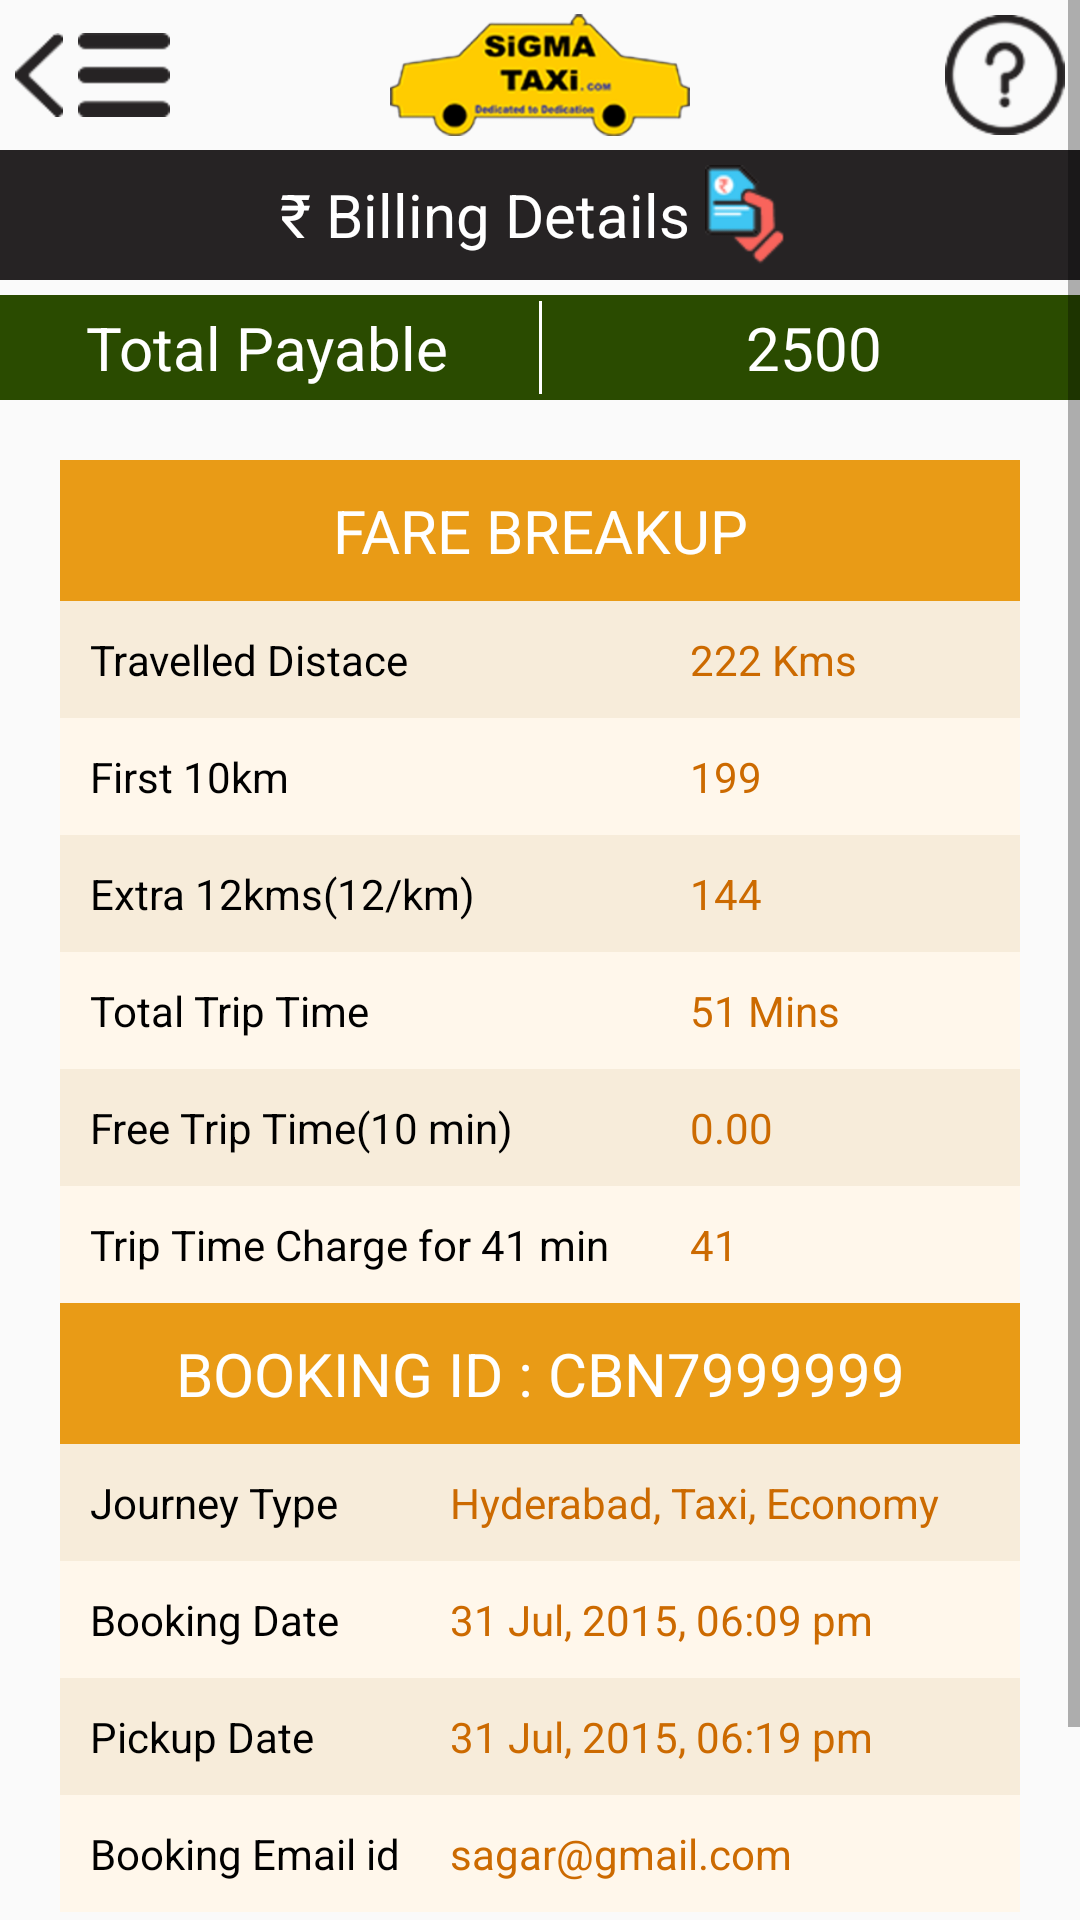

Icon bounding boxes for this 1080w x 1920h phone screenshot, format (x1, y1, x2, y2):
back: (15, 33, 63, 117)
help: (945, 15, 1065, 135)
menu: (78, 33, 170, 117)
